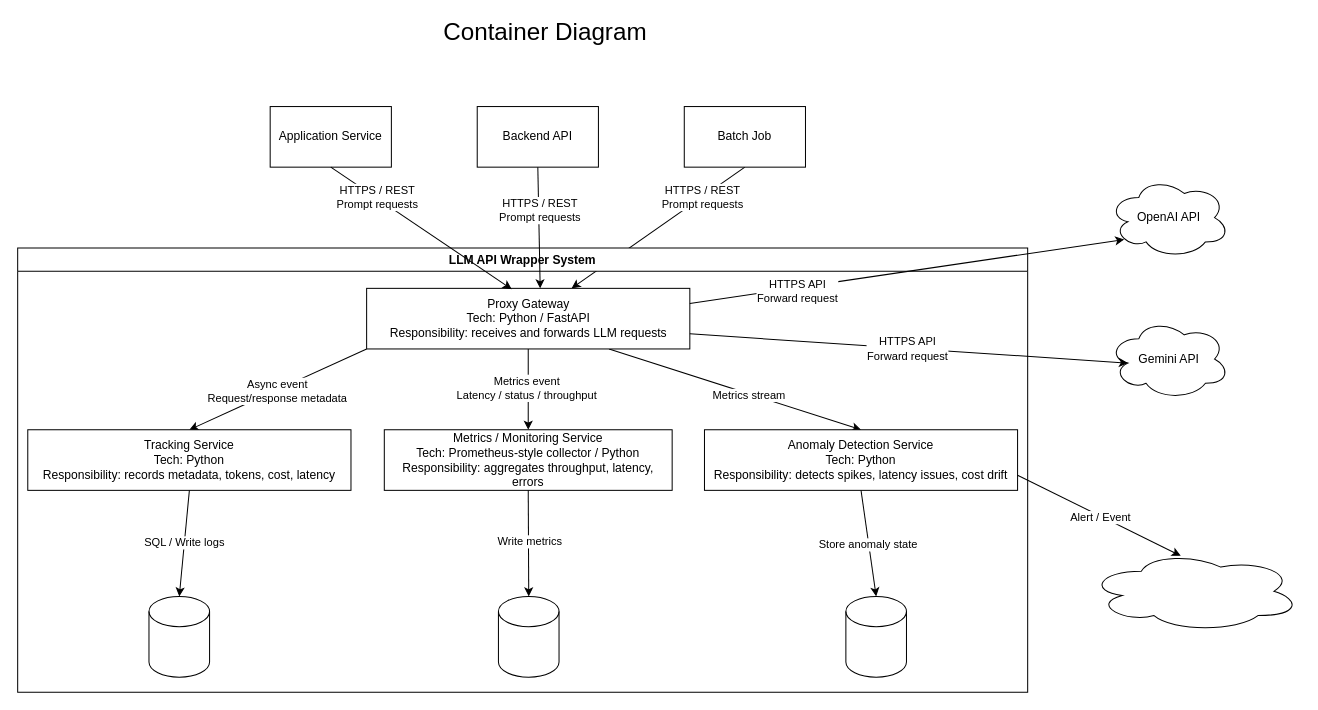
This 1318x710 diagram has some shape labels left out. Each missing label, with the centre of its shape:
"Alerting System Slack / PagerDuty / Email" goes at [1193,591].
"Anomaly State Store" goes at [875,636].
"Metrics Store" goes at [528,636].
"Request Log Database" goes at [179,636].
